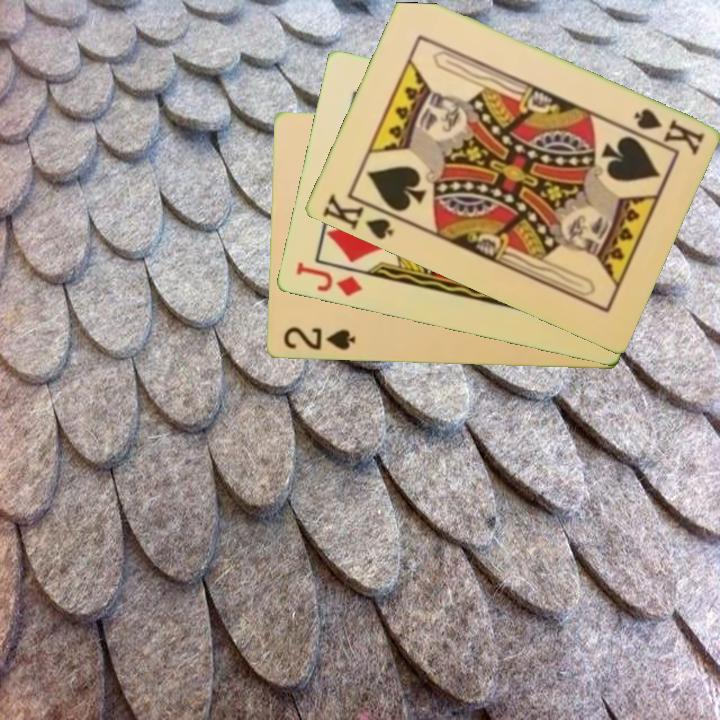2s: (279, 324, 358, 354)
Jd: (292, 259, 365, 300)
Ks: (629, 105, 707, 159), (318, 190, 396, 243)
